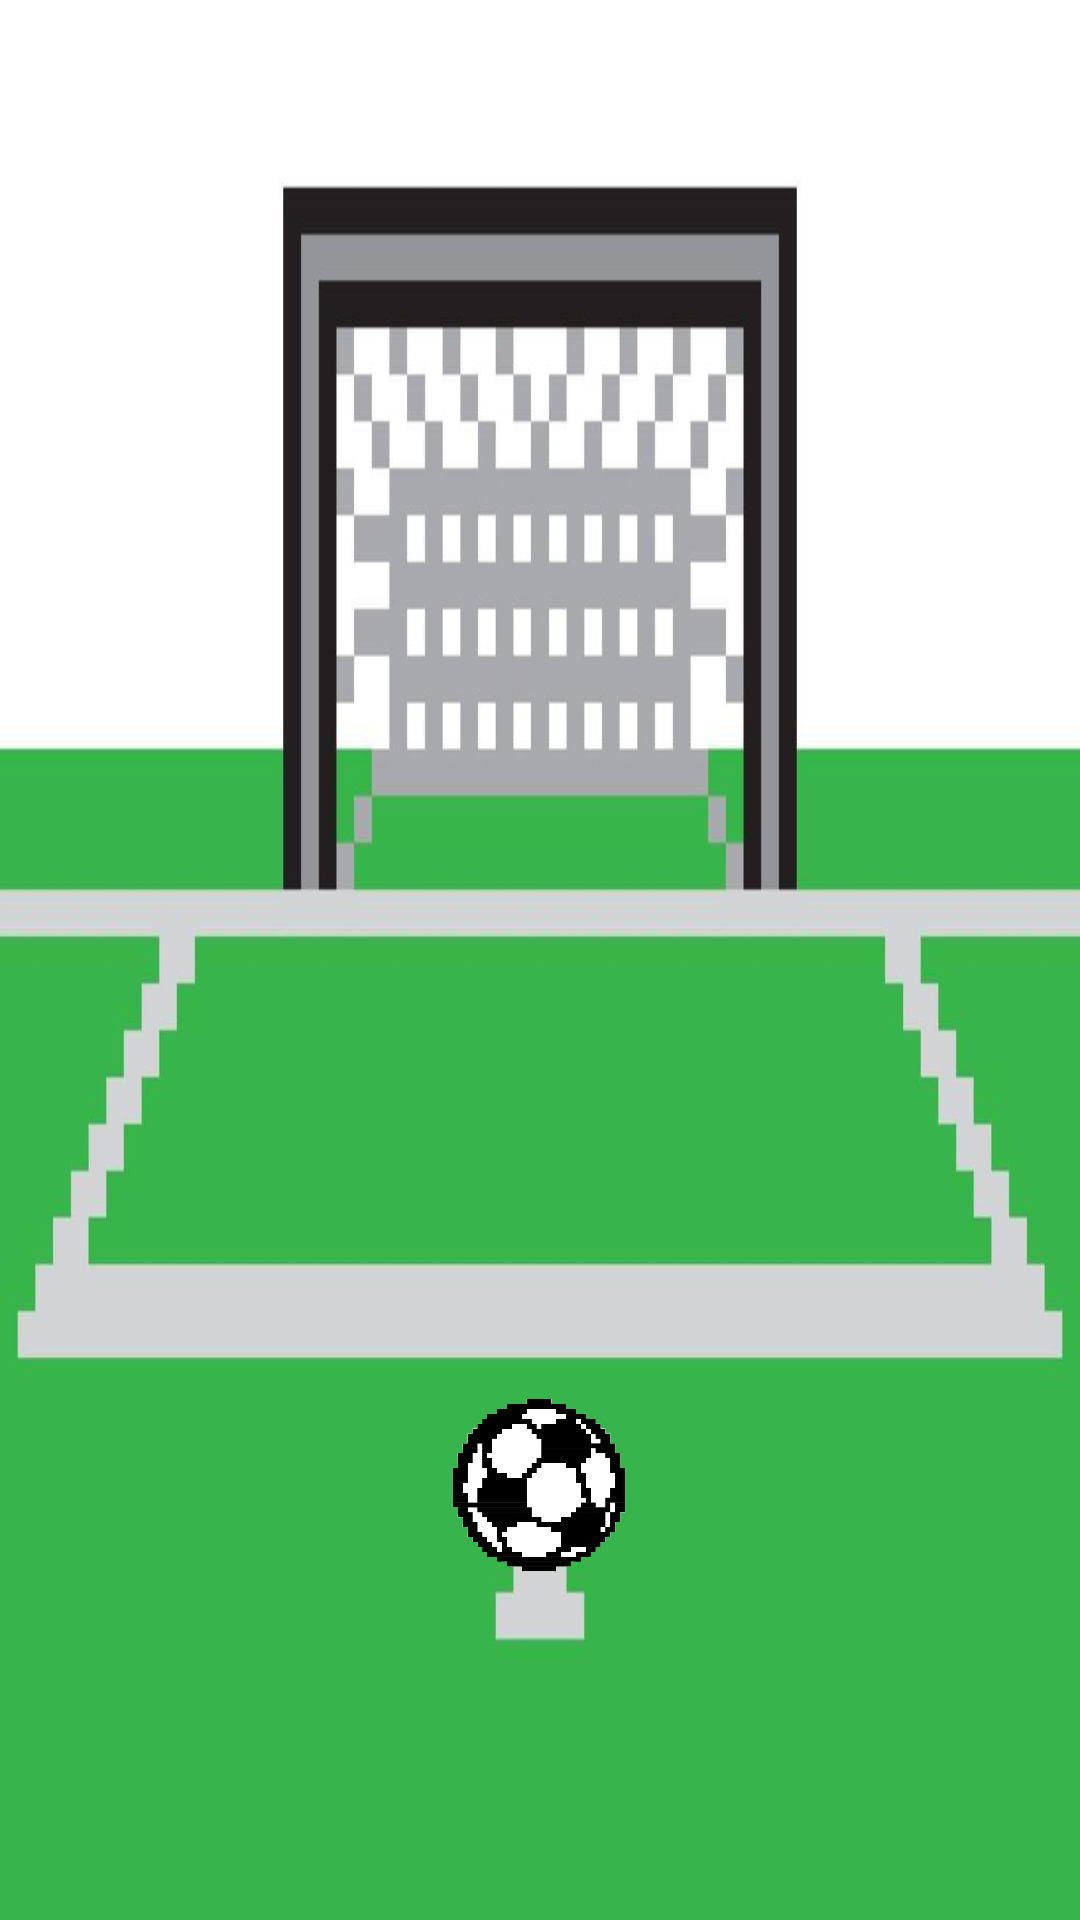

Screen size 1080*1920. Icon name, then its center in pixels as (x=x, y=y):
bola: (x=538, y=1490)
